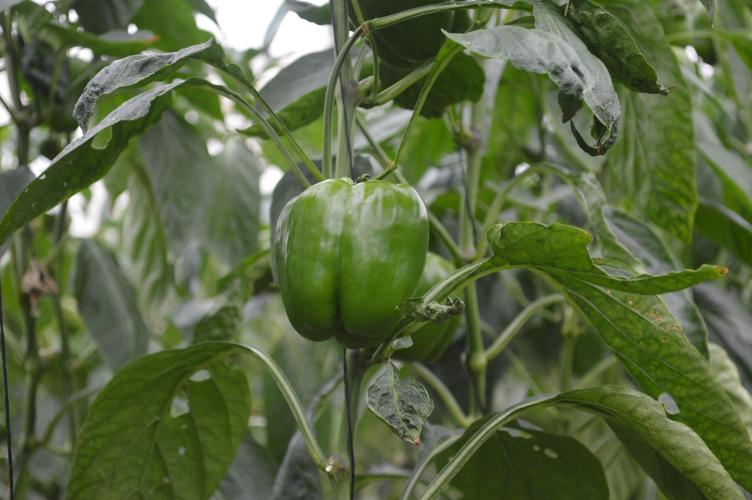BellPepper: (270, 179, 429, 351), (395, 251, 461, 363)
